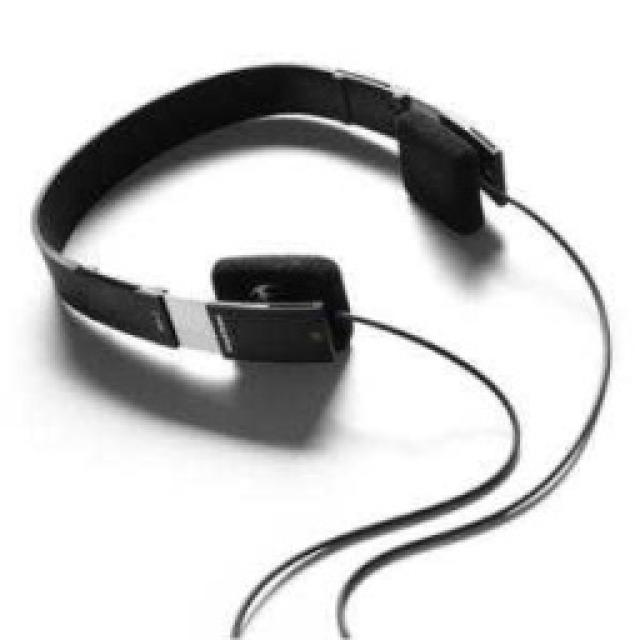headphones: (28, 58, 508, 368)
